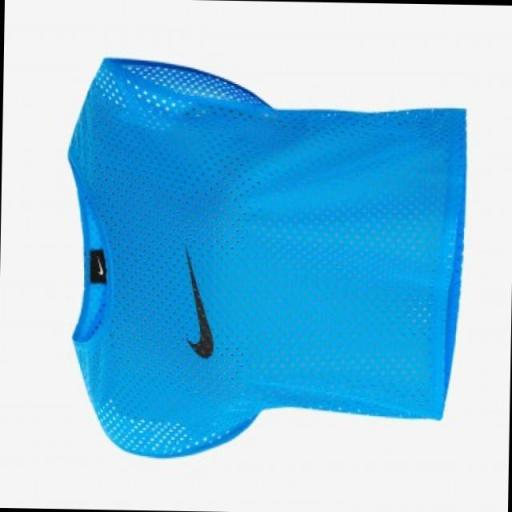Nike: (177, 236, 221, 364)
